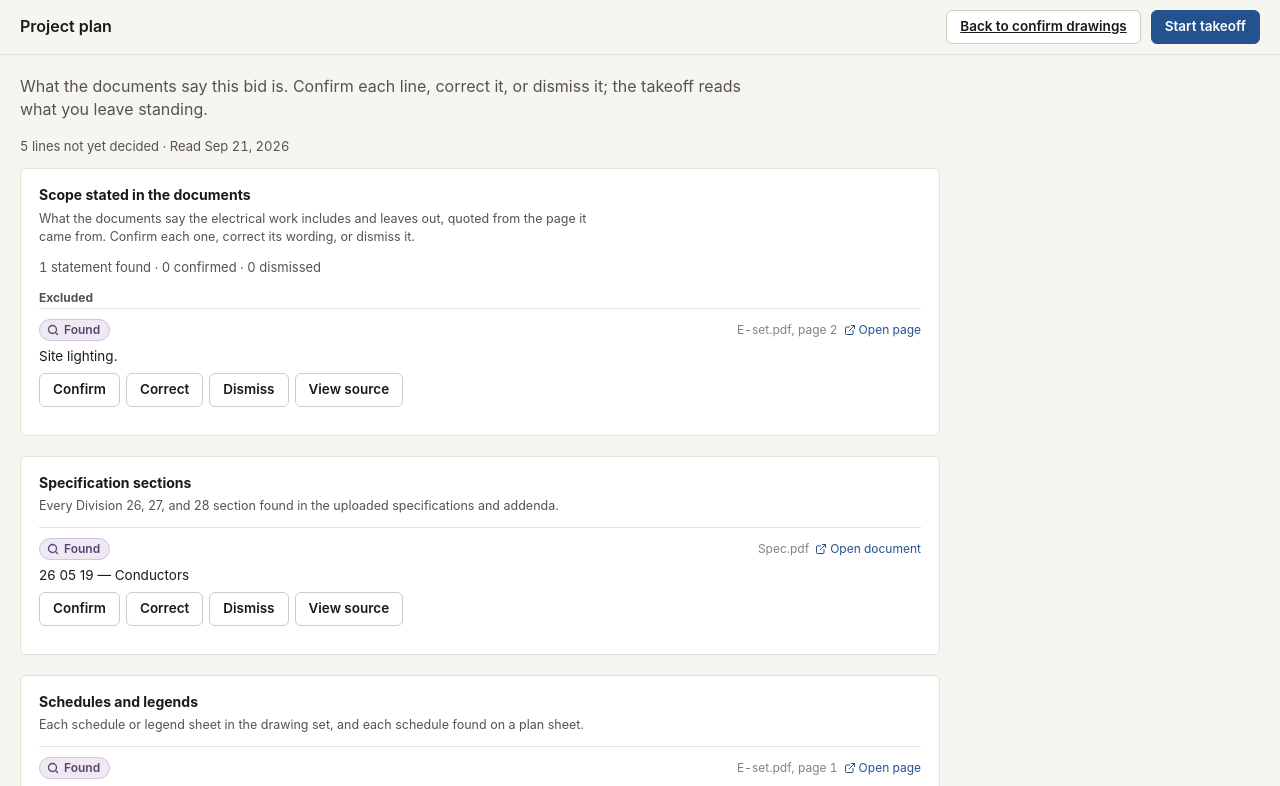
Test: PlanWorkspace › a decision follows the server's answer and the undecided count drops
Click the button "Confirm" below "26 05 19 — Conductors" at (79, 608), box [39,592,120,626]
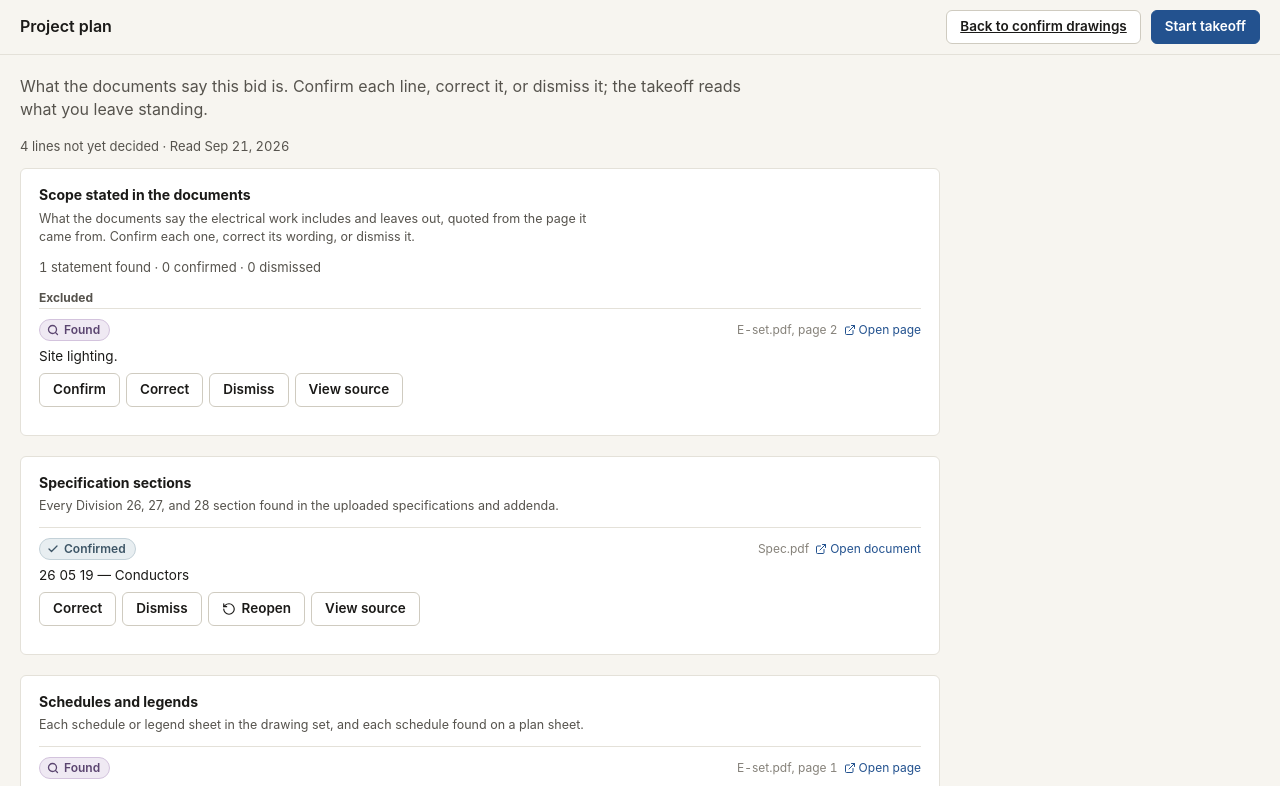
Now the text "Confirmed" is shown, box [39,538,136,560]
Now the text "4 lines not yet decided" is shown, box [20,138,159,154]
